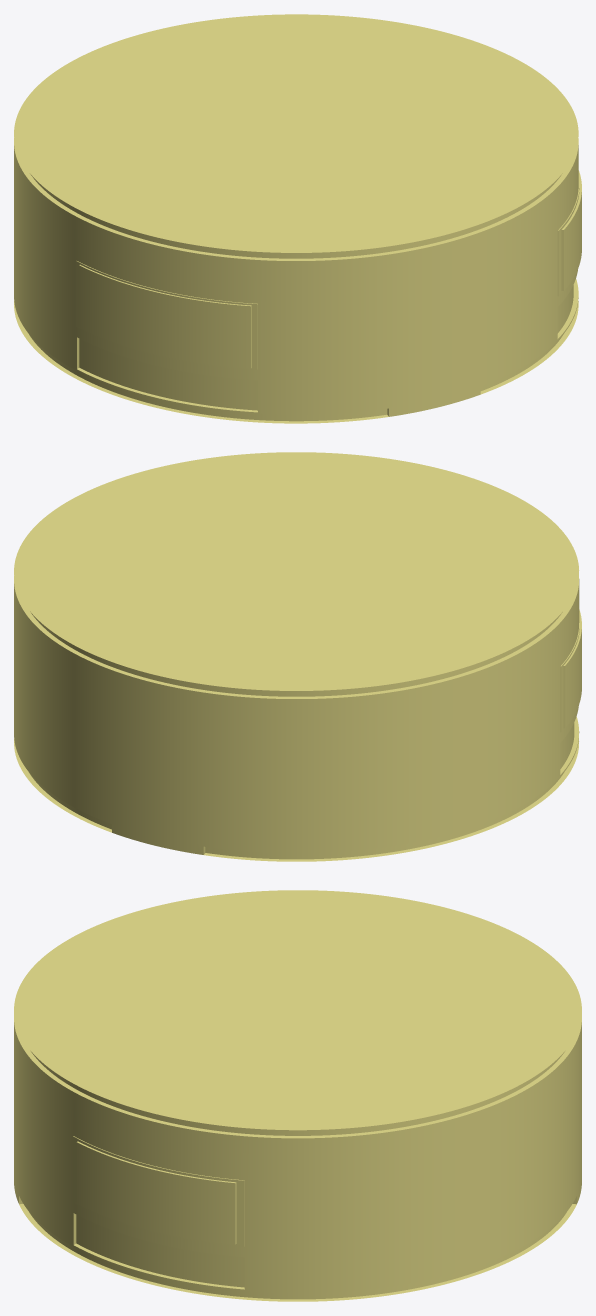
Rendered from Goku's House.fbx.
3 views of the same model, one above another, from view 1: azimuth 30°, elevation 25°; view 2: azimuth 150°, elevation 25°; view 3: azimuth 270°, elevation 25° (orthographic).
Parts seen in each view (by area): view 1: House; view 2: House; view 3: House.
Part boxes in pixels (x1=…): House: x1=14, y1=14, x2=581, y2=423; House: x1=14, y1=452, x2=581, y2=861; House: x1=14, y1=890, x2=581, y2=1301.
Size of the model in its own units: 600 by 200 by 600.
